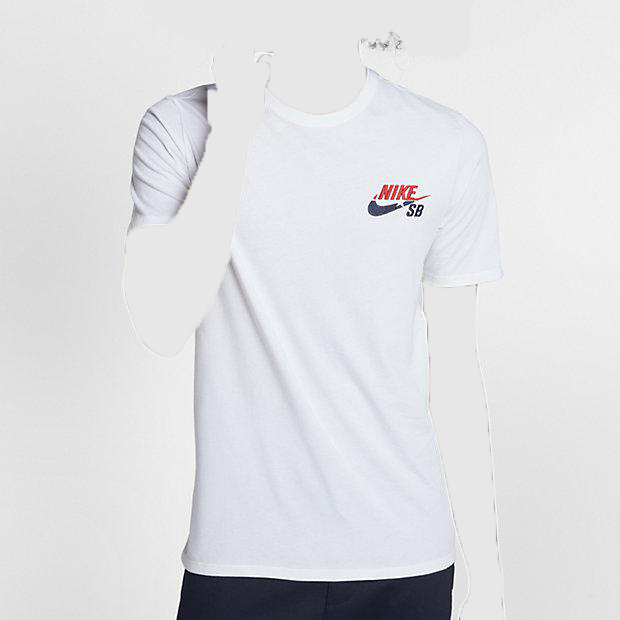teeshirt: (123, 67, 497, 589)
